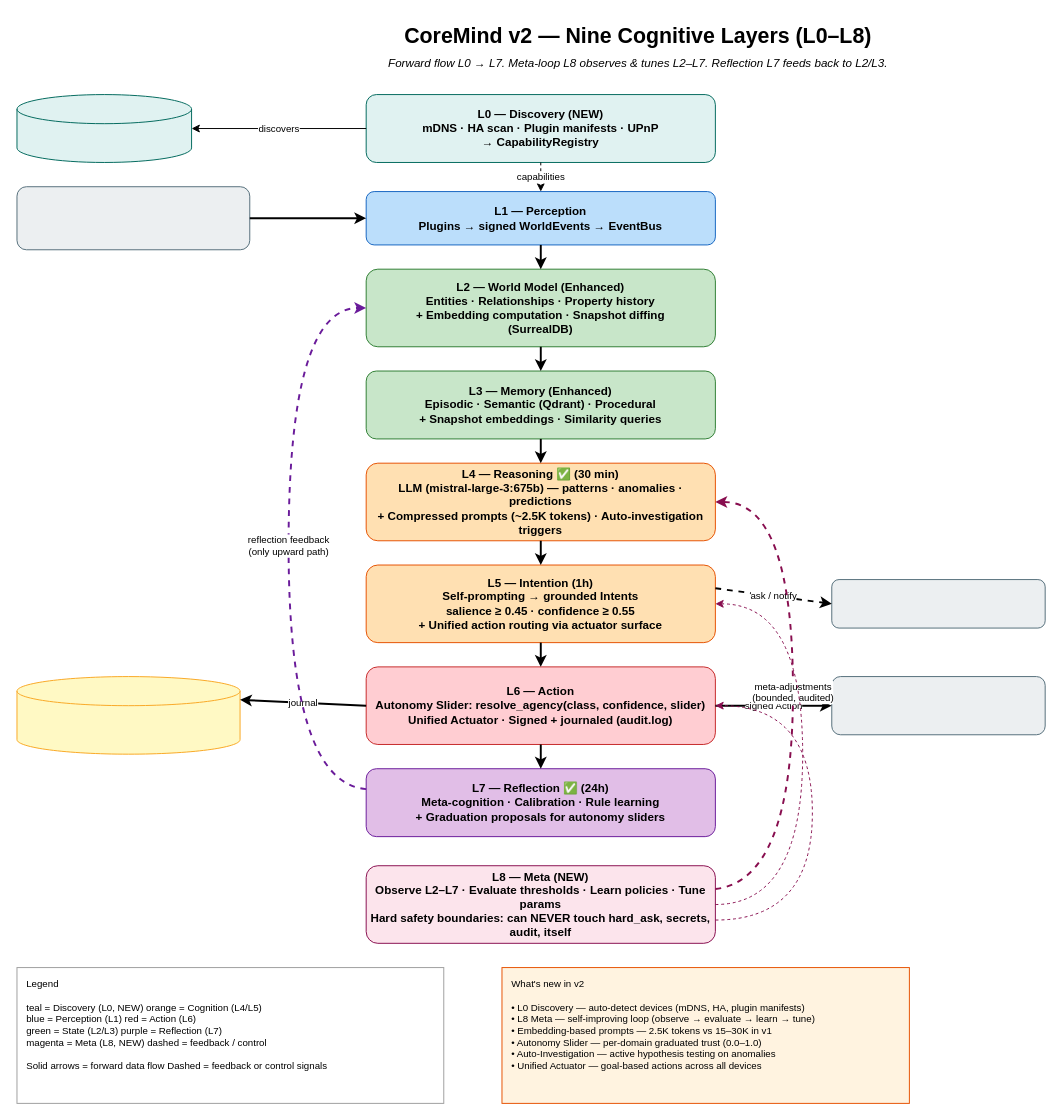
Image size: 1062x1120. Some labels were removed from this diagram. The shapes that lost their labels are listed below. From the top down, each one's box as (x1, y1, x2, y2) in pixels, then its label:
(16, 94, 192, 162): Capability Registry (auto-discovered devices)
(16, 186, 250, 250): External Signals (HA, IMAP, webhooks, sensors, Tapo, weather, Firefly, …)
(831, 579, 1045, 628): User (Dashboard · Telegram · CLI)
(16, 676, 240, 754): Audit Journal ~/.coremind/audit.log (append-only, hash-chained, ed25519)
(831, 676, 1045, 735): Effectors (HA devices, Unified Actuator, OpenClaw channels, email)
